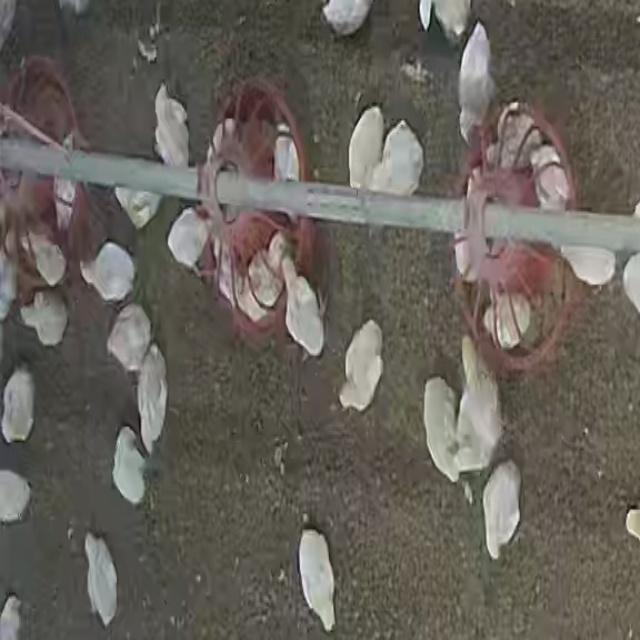chicken: (454, 338, 501, 471), (279, 253, 333, 364), (292, 526, 342, 634), (336, 318, 386, 417), (238, 232, 292, 322), (481, 458, 526, 564), (457, 21, 495, 146), (420, 374, 462, 485), (133, 342, 172, 453), (151, 77, 197, 168), (374, 120, 424, 196), (165, 207, 213, 281), (490, 106, 542, 174), (108, 425, 151, 507), (80, 242, 138, 302), (105, 304, 154, 374), (83, 532, 118, 626), (347, 106, 384, 192), (482, 292, 535, 350), (18, 290, 68, 349), (526, 144, 570, 211), (1, 367, 36, 444), (556, 244, 614, 286), (30, 231, 67, 288), (0, 468, 32, 523), (267, 230, 295, 280)
